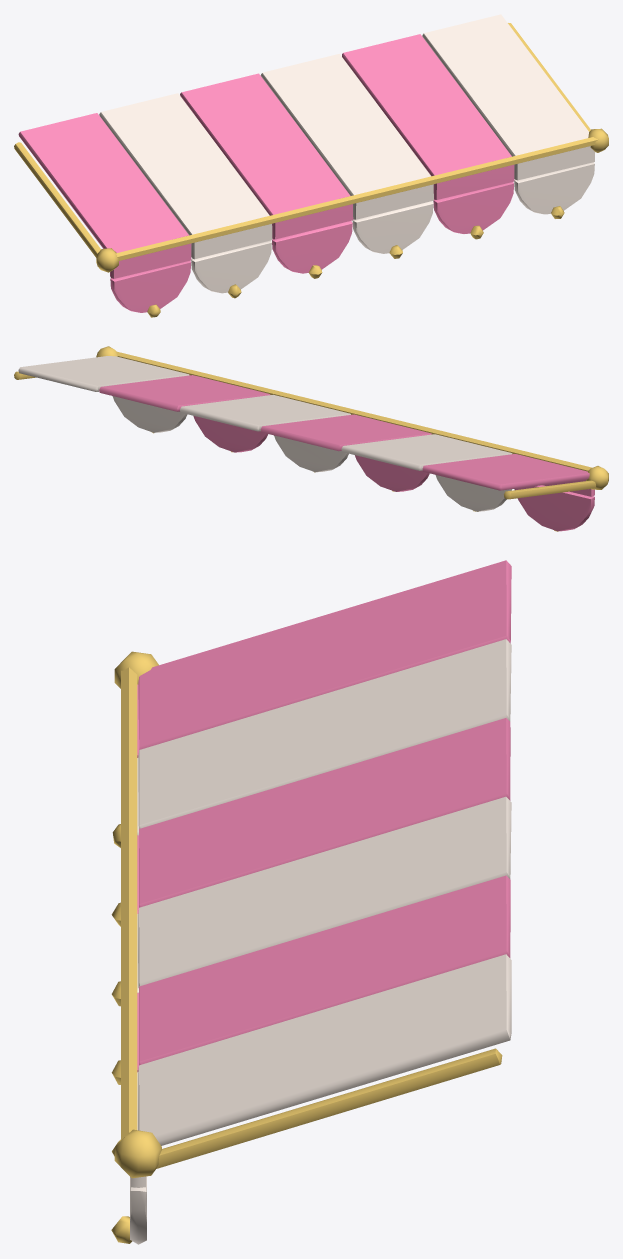
Rendered from awning_striped.glb.
The picture shows the model from 3 angles, top to bottom: view 1: azimuth 30°, elevation 25°; view 2: azimuth 150°, elevation 25°; view 3: azimuth 270°, elevation 25°; orthographic projection. The views are drawn at different scales.
Visible parts, largest first — view 1: awning_striped; view 2: awning_striped; view 3: awning_striped.
Boxes of the visible parts, x1=… form: awning_striped: x1=14, y1=14, x2=608, y2=317; awning_striped: x1=14, y1=346, x2=608, y2=531; awning_striped: x1=111, y1=560, x2=511, y2=1244.
Size of the model in its own units: 3.79 by 0.8911 by 1.29.
